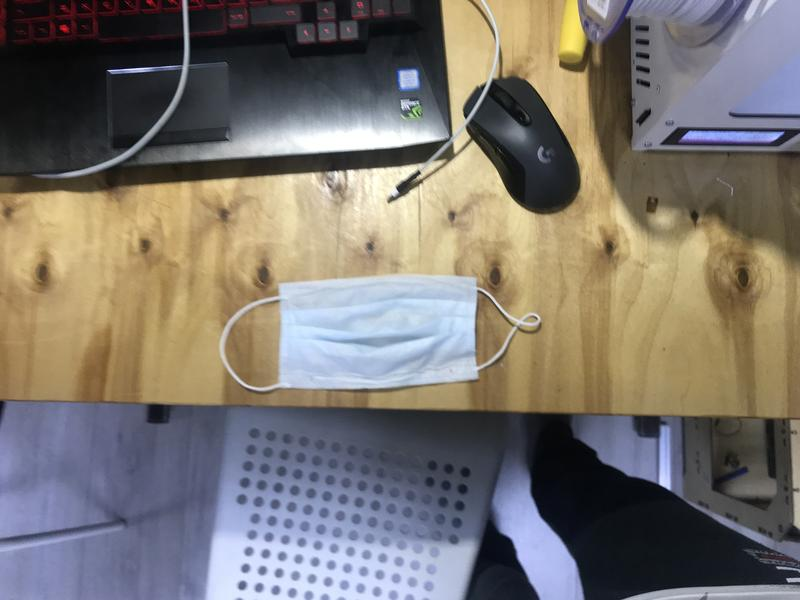medical_mask: (219, 277, 541, 392)
